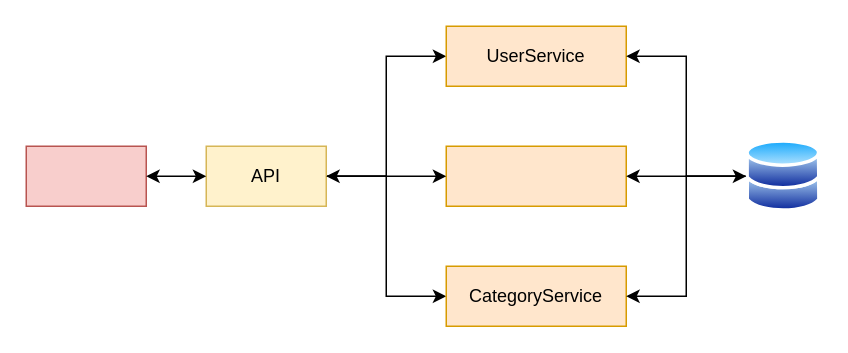
Image size: 848x353. Some labels were removed from this diagram. Here are the shapes that lost their labels. From the top down, the centre of each, then its label:
At pixel 85 175: "Client".
At pixel 535 175: "TransactionService".
